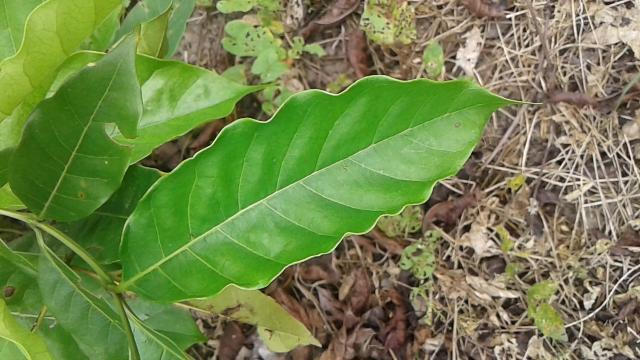healthy: (120, 76, 516, 306)
